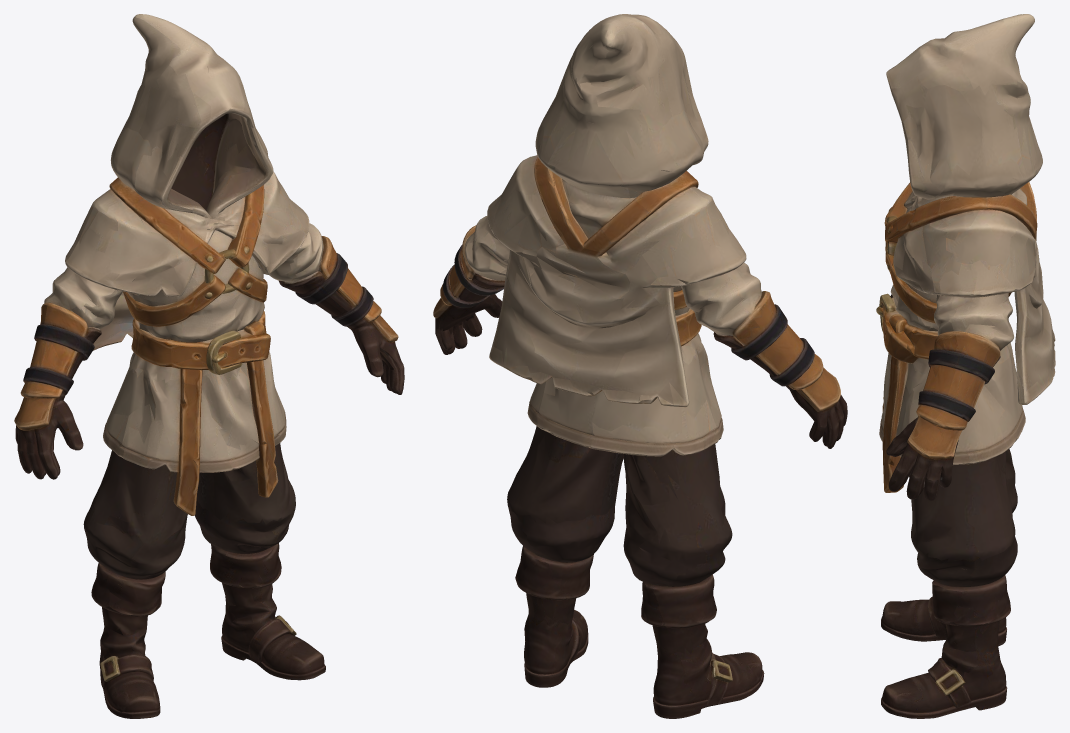
File: traveler_for_mixamo.fbx
The picture shows the model from 3 angles, left to right: view 1: azimuth 30°, elevation 25°; view 2: azimuth 150°, elevation 25°; view 3: azimuth 270°, elevation 25°; orthographic projection. The views are drawn at different scales.
Parts seen in each view (by area): view 1: char1; view 2: char1; view 3: char1.
Boxes of the visible parts, bbox=[...] form: char1: bbox=[14, 14, 404, 718]; char1: bbox=[433, 14, 847, 718]; char1: bbox=[876, 14, 1055, 718].
Bounding box in the file's own units: 1.07 × 1.75 × 0.439.
Materials: 1 (1 with a texture image).
